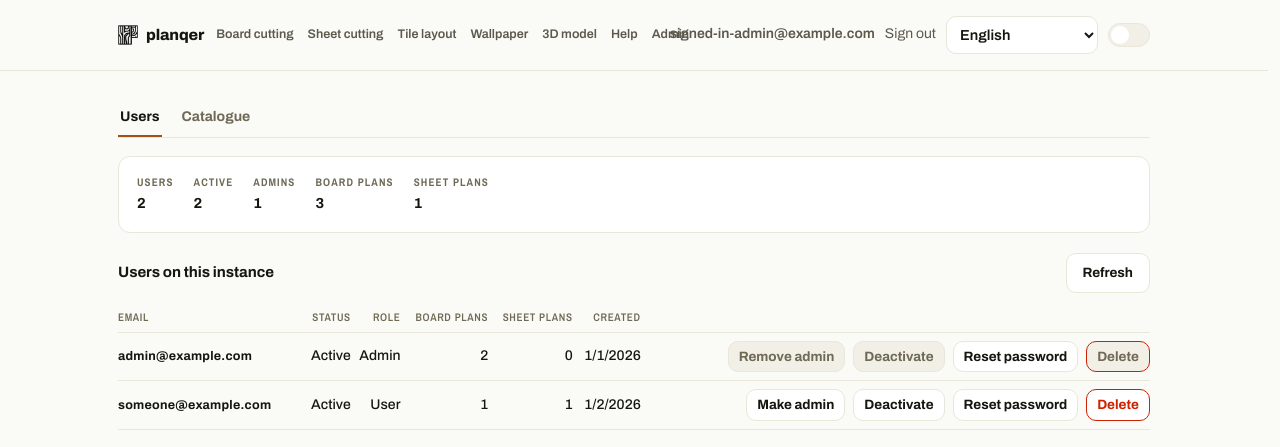
AdminDashboard › switches between the users and catalogue tabs
Expected: the text "someone@example.com" is shown, [118,381,303,429]
Click the tab "Catalogue": point(216, 118) [180,99,252,137]
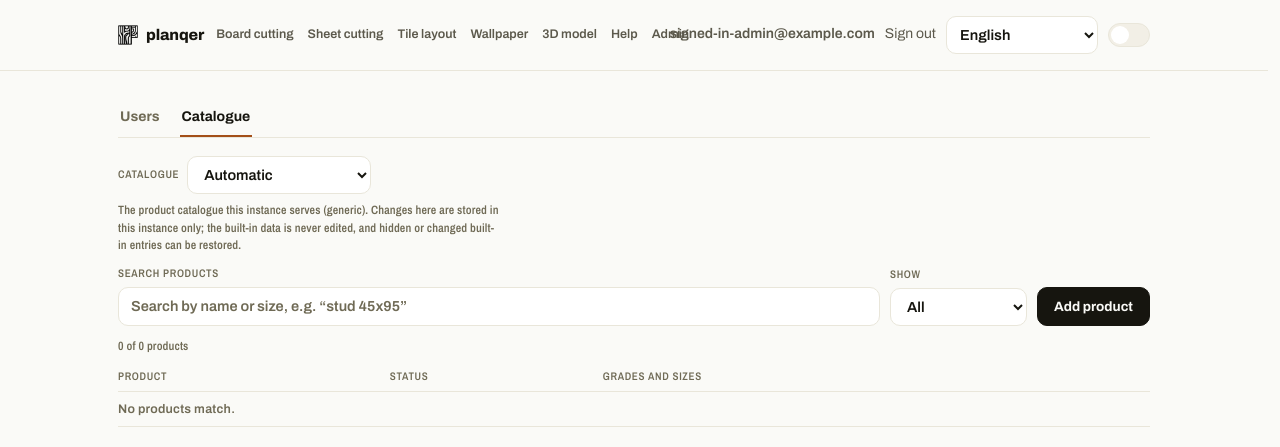
Now the search field labelled "Search products" is shown, box [118,287,880,326]
Now the text "someone@example.com" is gone
Click the tab "Users": point(140, 118) [118,99,162,137]
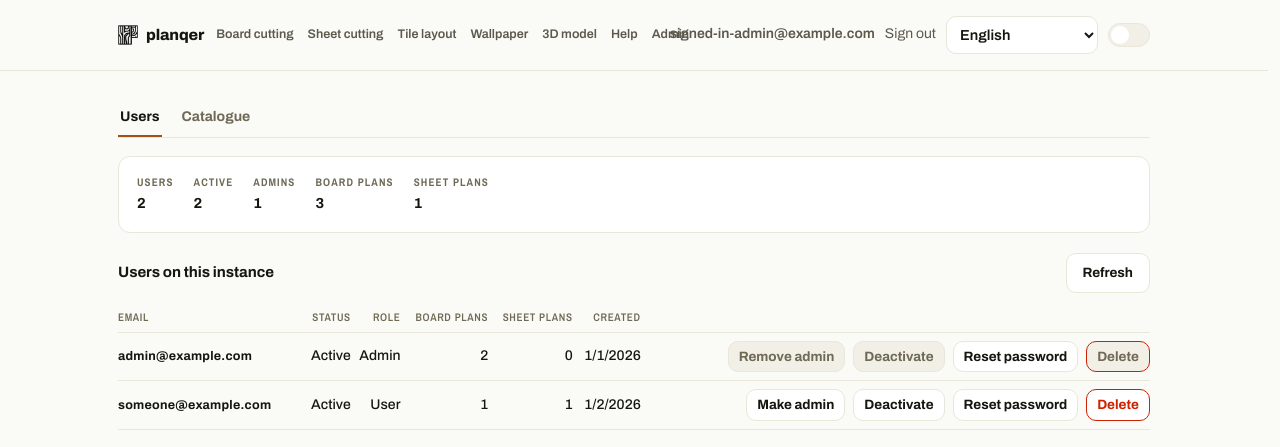
Now the text "someone@example.com" is shown, box [118,381,303,429]
